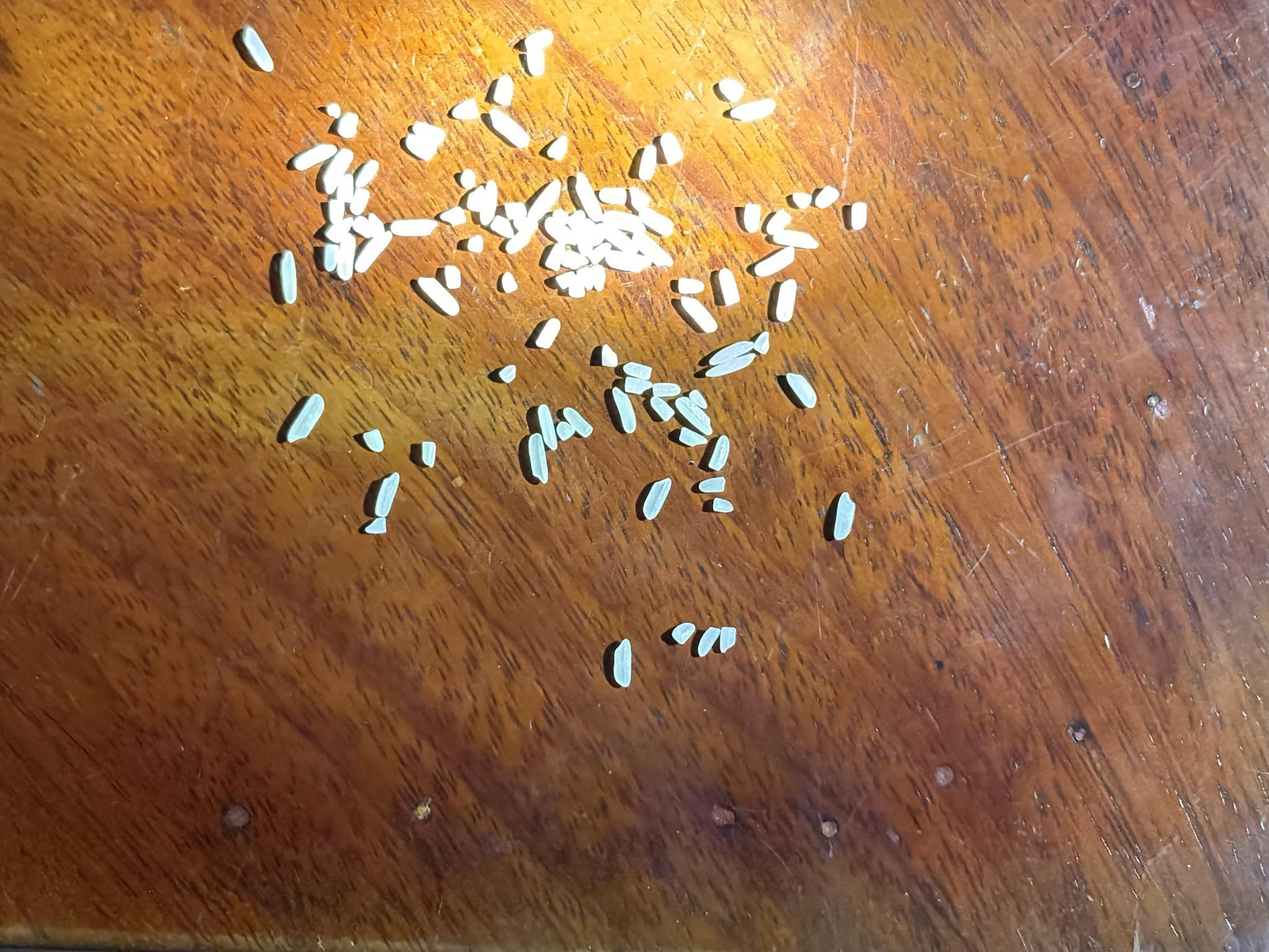Rice-th-y-nh: (285, 392, 327, 445), (416, 271, 461, 319), (487, 103, 531, 152), (569, 170, 608, 224), (354, 227, 394, 276), (705, 347, 756, 385), (631, 225, 673, 271), (678, 291, 719, 338), (292, 136, 338, 177), (520, 26, 556, 77), (708, 333, 755, 372), (753, 241, 796, 283), (520, 431, 554, 484), (674, 394, 714, 439), (526, 177, 564, 224), (272, 250, 305, 304), (827, 491, 861, 543), (729, 91, 776, 128), (639, 475, 675, 522), (369, 471, 404, 519), (607, 386, 641, 435), (241, 24, 275, 73), (390, 210, 439, 244), (321, 146, 354, 196), (604, 245, 651, 280), (773, 221, 819, 256), (607, 638, 639, 688), (331, 231, 362, 282), (531, 403, 563, 452), (505, 214, 540, 258), (472, 179, 504, 227), (770, 277, 802, 324), (784, 369, 820, 410), (637, 205, 676, 239), (596, 221, 635, 254), (714, 266, 744, 308), (411, 117, 447, 151), (600, 207, 643, 235), (402, 132, 440, 163), (705, 434, 735, 473), (542, 216, 579, 247), (561, 405, 594, 439), (657, 130, 686, 168), (634, 143, 662, 182), (353, 157, 382, 192), (491, 73, 518, 108), (324, 214, 353, 246), (571, 222, 598, 256), (451, 95, 481, 125), (717, 74, 746, 105), (677, 424, 709, 452), (739, 201, 766, 234), (535, 317, 562, 350), (622, 358, 653, 386), (335, 110, 362, 142), (333, 172, 359, 205), (350, 213, 379, 242), (598, 181, 628, 209), (765, 208, 793, 238), (575, 262, 605, 290), (696, 625, 721, 658), (489, 213, 517, 242), (648, 395, 676, 423), (624, 372, 653, 399), (814, 182, 841, 211), (626, 184, 652, 214), (543, 241, 568, 272), (464, 183, 488, 215), (670, 619, 697, 646), (440, 203, 468, 229), (716, 625, 741, 654), (323, 197, 348, 226), (348, 187, 372, 217), (560, 248, 590, 272), (848, 200, 871, 231), (650, 378, 681, 401), (586, 241, 613, 267), (698, 472, 726, 497), (319, 242, 341, 273), (502, 198, 529, 223), (677, 274, 705, 298), (546, 134, 570, 161), (441, 263, 464, 290), (589, 262, 609, 292), (362, 428, 386, 453), (566, 208, 588, 235), (418, 440, 439, 468), (554, 268, 578, 292), (599, 343, 621, 369), (554, 419, 577, 443), (589, 219, 608, 248), (363, 515, 388, 537), (687, 387, 709, 411), (752, 330, 772, 356), (791, 188, 813, 211), (499, 271, 520, 295), (366, 212, 387, 236), (566, 278, 587, 300), (497, 363, 518, 385), (458, 167, 478, 190), (551, 206, 571, 229), (686, 461, 706, 483), (466, 233, 485, 256), (711, 496, 734, 515), (324, 101, 343, 120)
